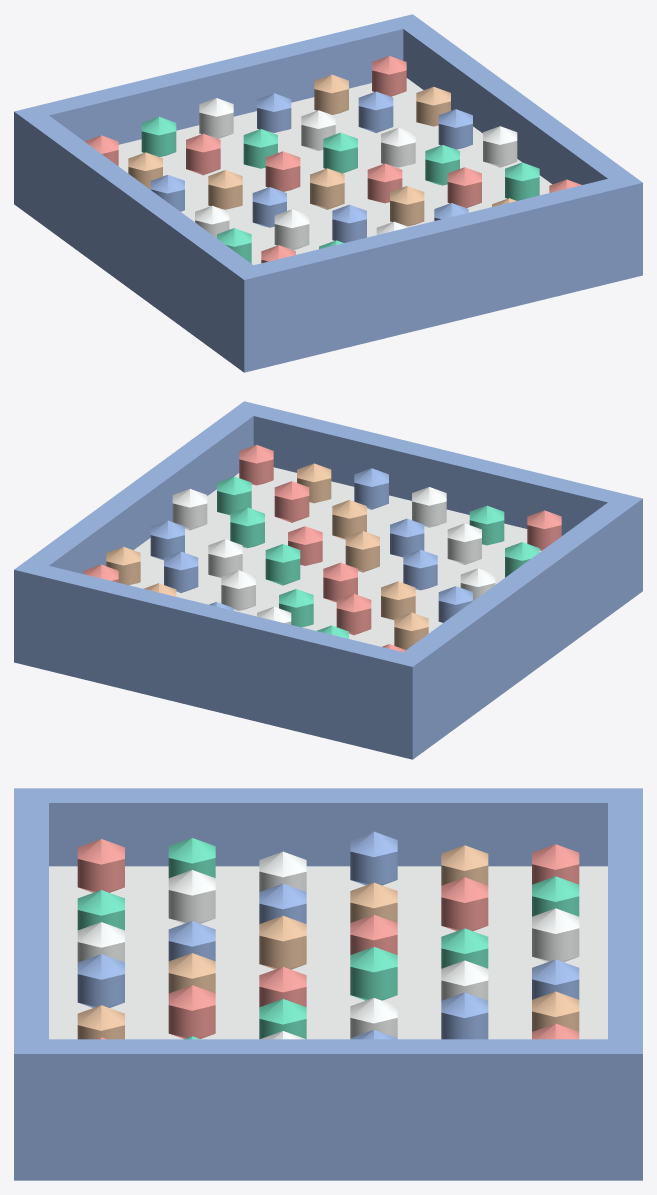
The model's file is ballPit.glb.
The picture shows the model from 3 angles, top to bottom: view 1: azimuth 30°, elevation 25°; view 2: azimuth 150°, elevation 25°; view 3: azimuth 270°, elevation 25°; orthographic projection. The views are drawn at different scales.
Parts seen in each view (by area): view 1: ballPit; view 2: ballPit; view 3: ballPit.
Boxes of the visible parts, left/top/right/bottom form: ballPit: left=14, top=14, right=642, bottom=372; ballPit: left=14, top=401, right=642, bottom=759; ballPit: left=14, top=788, right=642, bottom=1180.
Bounding box in the file's own units: 0.9 × 0.2 × 0.9.
